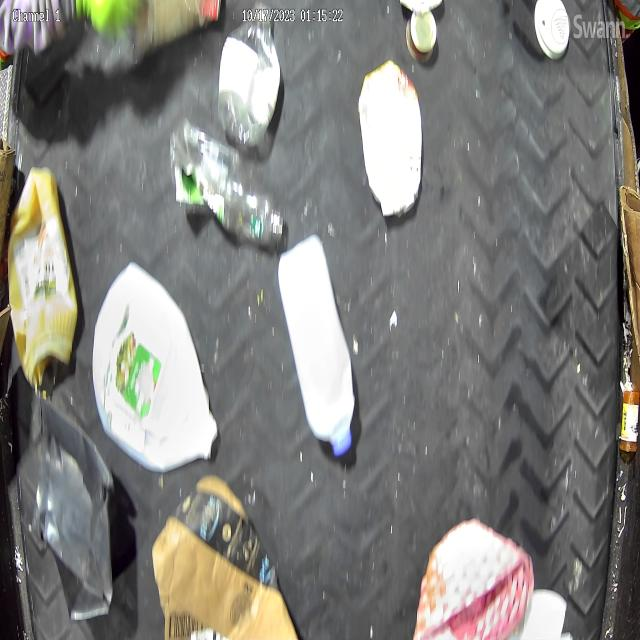can: (406, 7, 438, 62)
milk_jug: (91, 262, 215, 473)
non_white_jug: (8, 170, 79, 389)
plastic_bottle: (172, 118, 282, 245)
